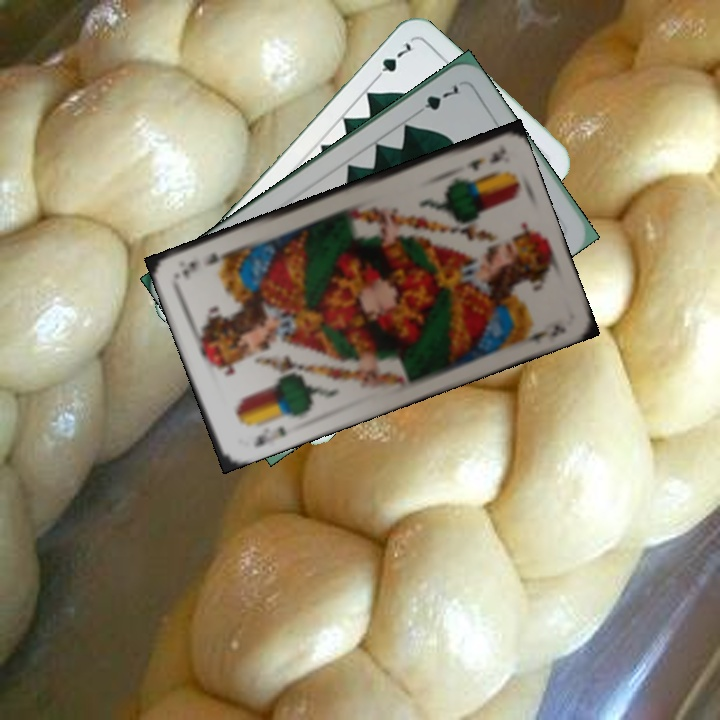EK: (250, 421, 290, 450), (463, 148, 506, 173)
G7: (369, 38, 414, 85), (410, 80, 461, 119)
